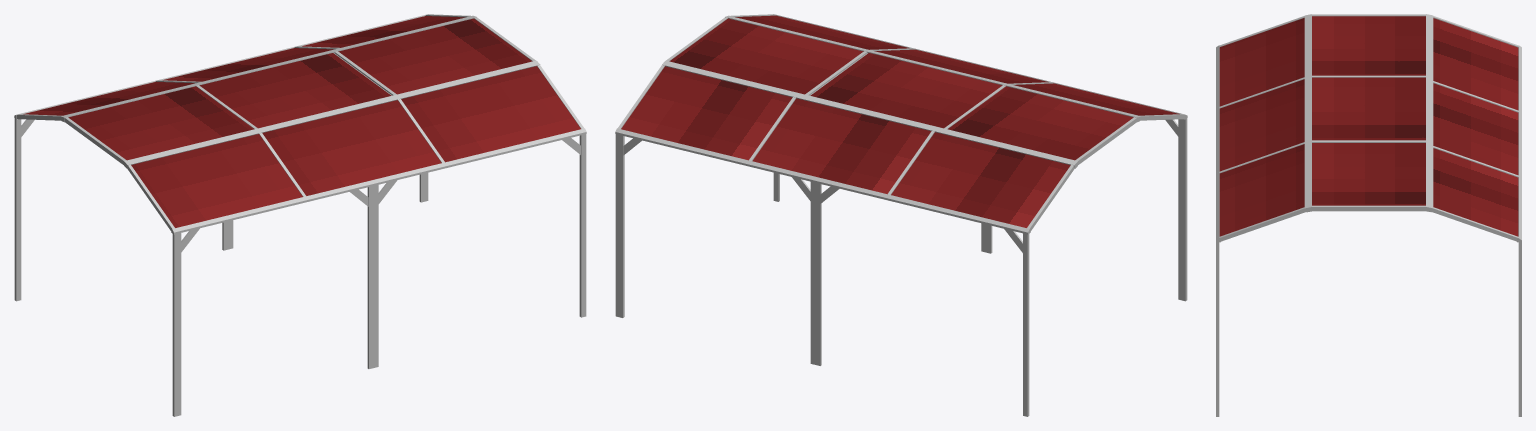
Rendered from raincover05b.fbx.
3 renders of one model, left to right at view 1: azimuth 30°, elevation 25°; view 2: azimuth 150°, elevation 25°; view 3: azimuth 270°, elevation 25°, orthographic. The views are drawn at different scales.
Visible parts, largest first — view 1: raincover05b; view 2: raincover05b; view 3: raincover05b.
Part boxes in pixels (x1=…): raincover05b: x1=14, y1=14, x2=586, y2=416; raincover05b: x1=615, y1=14, x2=1187, y2=416; raincover05b: x1=1216, y1=14, x2=1521, y2=416.
Size of the model in its own units: 17.22 by 8.74 by 11.53.
